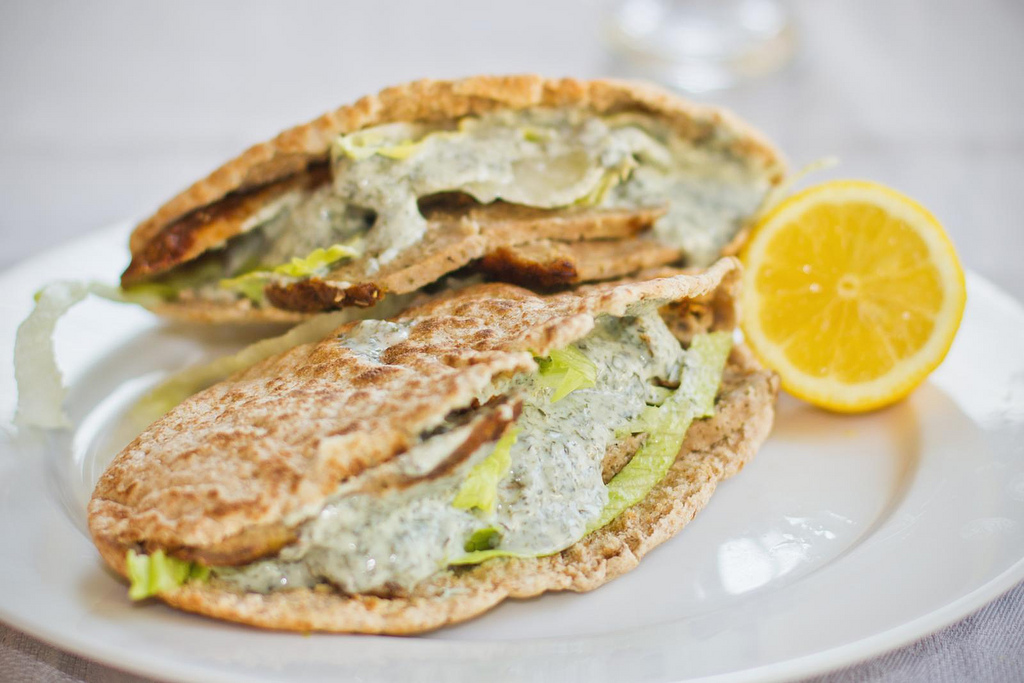slice of bread: (107, 262, 746, 497), (97, 62, 792, 274)
